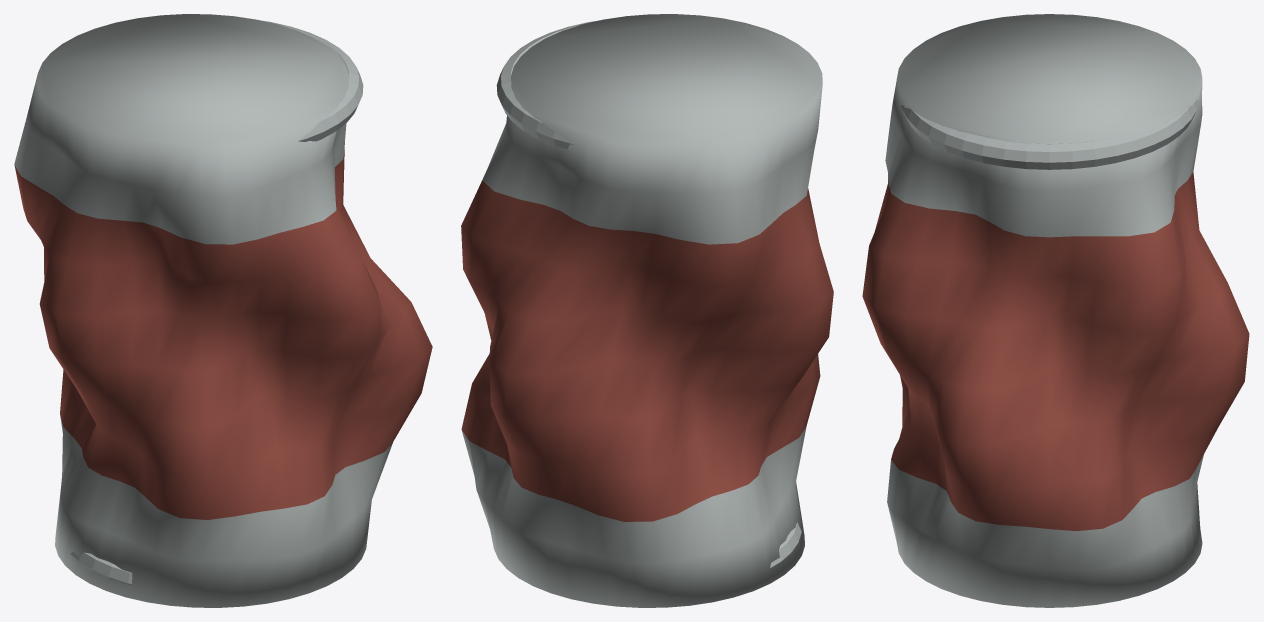
The model's file is debris_can.glb.
The picture shows the model from 3 angles, left to right: view 1: azimuth 30°, elevation 25°; view 2: azimuth 150°, elevation 25°; view 3: azimuth 270°, elevation 25°; orthographic projection. The views are drawn at different scales.
Visible parts, largest first — view 1: Debris.004; view 2: Debris.004; view 3: Debris.004.
Part boxes in pixels (x1,y1,x2,y2): Debris.004: (14, 14, 432, 607); Debris.004: (461, 14, 833, 607); Debris.004: (862, 14, 1249, 607).
Size of the model in its own units: 0.1127 by 0.145 by 0.1114.
